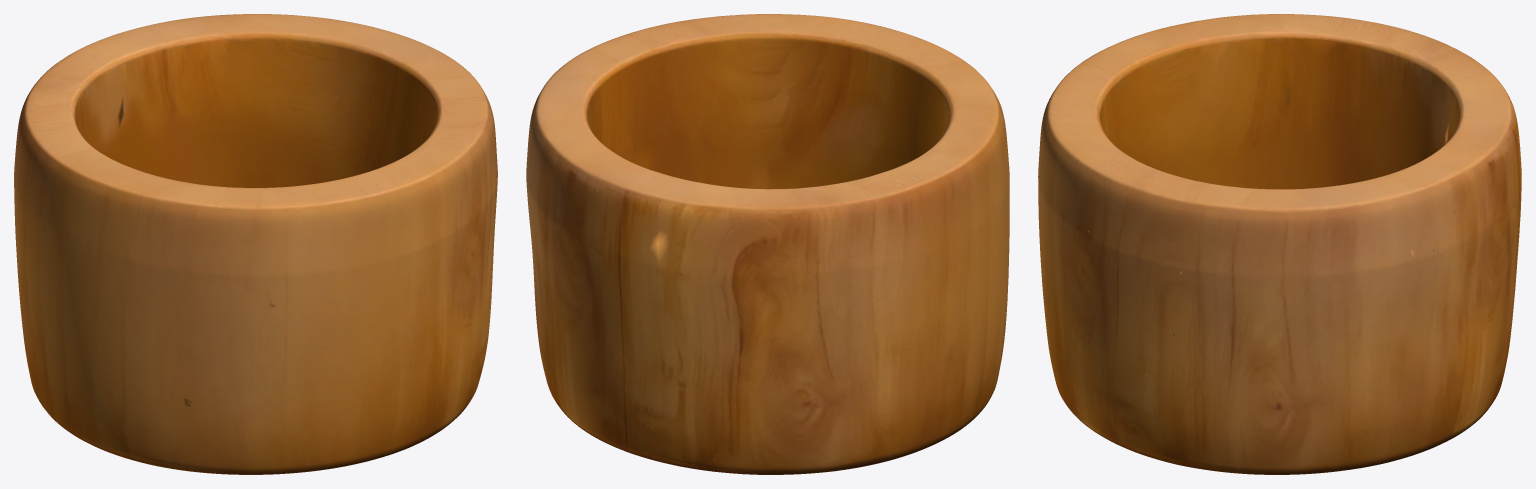
Rendered from mortar.glb.
The picture shows the model from 3 angles, left to right: view 1: azimuth 30°, elevation 25°; view 2: azimuth 150°, elevation 25°; view 3: azimuth 270°, elevation 25°; orthographic projection.
Visible parts, largest first — view 1: node_0; view 2: node_0; view 3: node_0.
Part boxes in pixels (x1,y1,x2,y2): node_0: [14, 14, 497, 474]; node_0: [526, 14, 1009, 474]; node_0: [1038, 14, 1521, 474].
Size of the model in its own units: 1.05 by 0.6543 by 1.05.
Materials: 1 (1 with a texture image).
